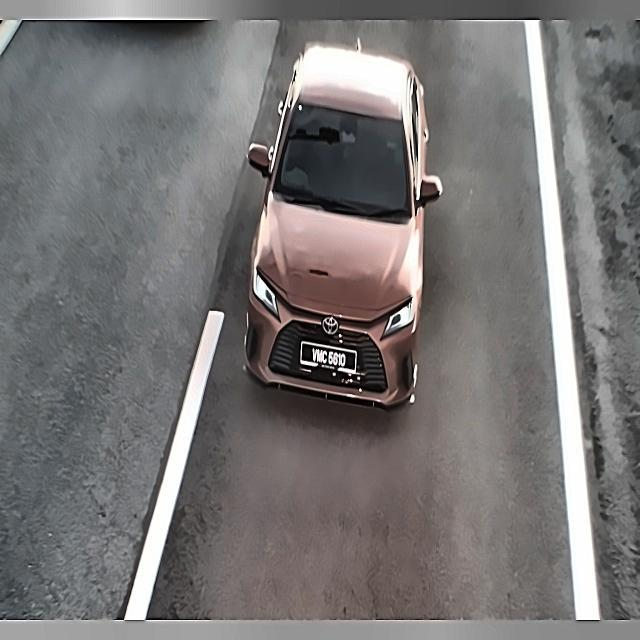car: (296, 336, 361, 385)
